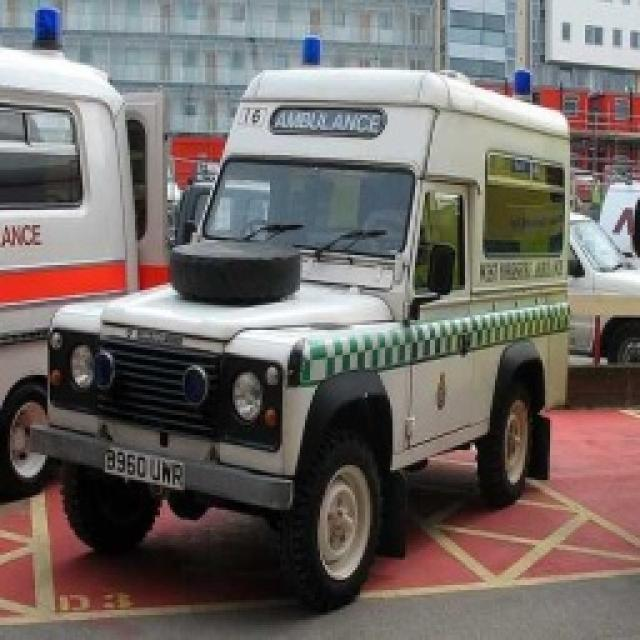ambulance: (40, 42, 580, 610)
